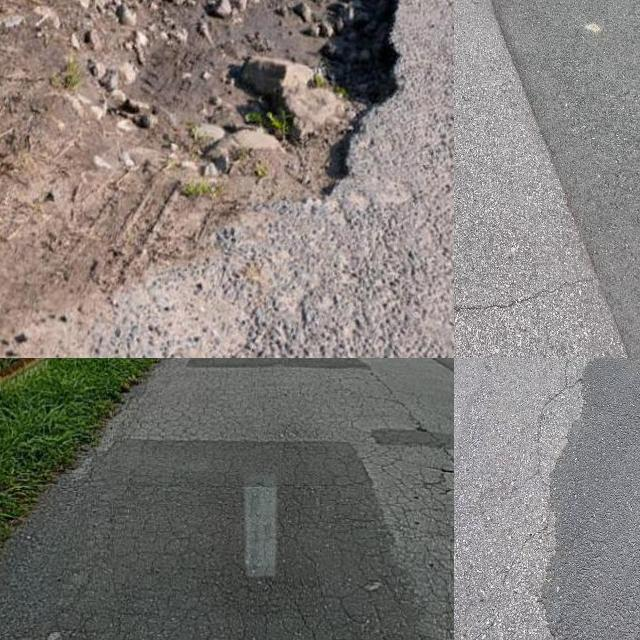Pinggir: (168, 0, 429, 225)
Sambungan: (0, 437, 435, 640), (485, 0, 640, 358), (543, 358, 640, 640), (187, 358, 367, 371)
